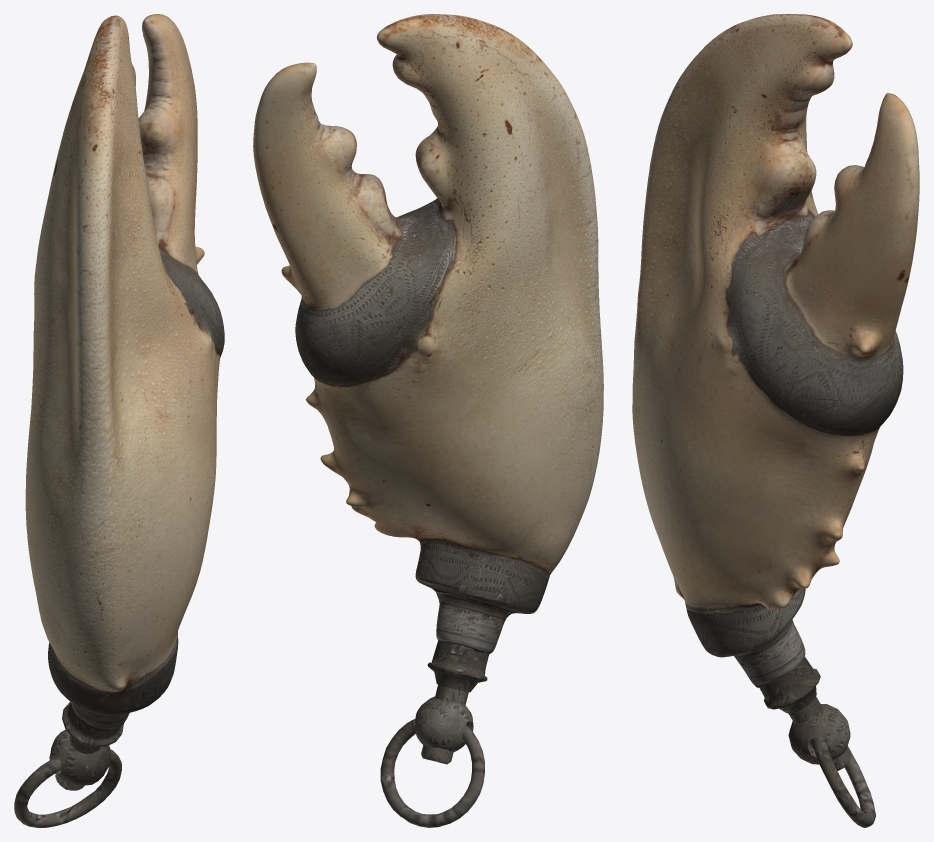
File: Clow_01.gltf
3 views of the same model, side by side, from view 1: azimuth 30°, elevation 25°; view 2: azimuth 150°, elevation 25°; view 3: azimuth 270°, elevation 25° (orthographic). The views are drawn at different scales.
Visible parts, largest first — view 1: CLAW_Low.001; view 2: CLAW_Low.001; view 3: CLAW_Low.001.
Part boxes in pixels (left/top/right/bottom): CLAW_Low.001: left=14, top=14, right=224, bottom=827; CLAW_Low.001: left=253, top=14, right=603, bottom=827; CLAW_Low.001: left=632, top=14, right=919, bottom=827.
Size of the model in its own units: 0.0495 by 0.1579 by 0.0502.
1 material, 1 textured.
